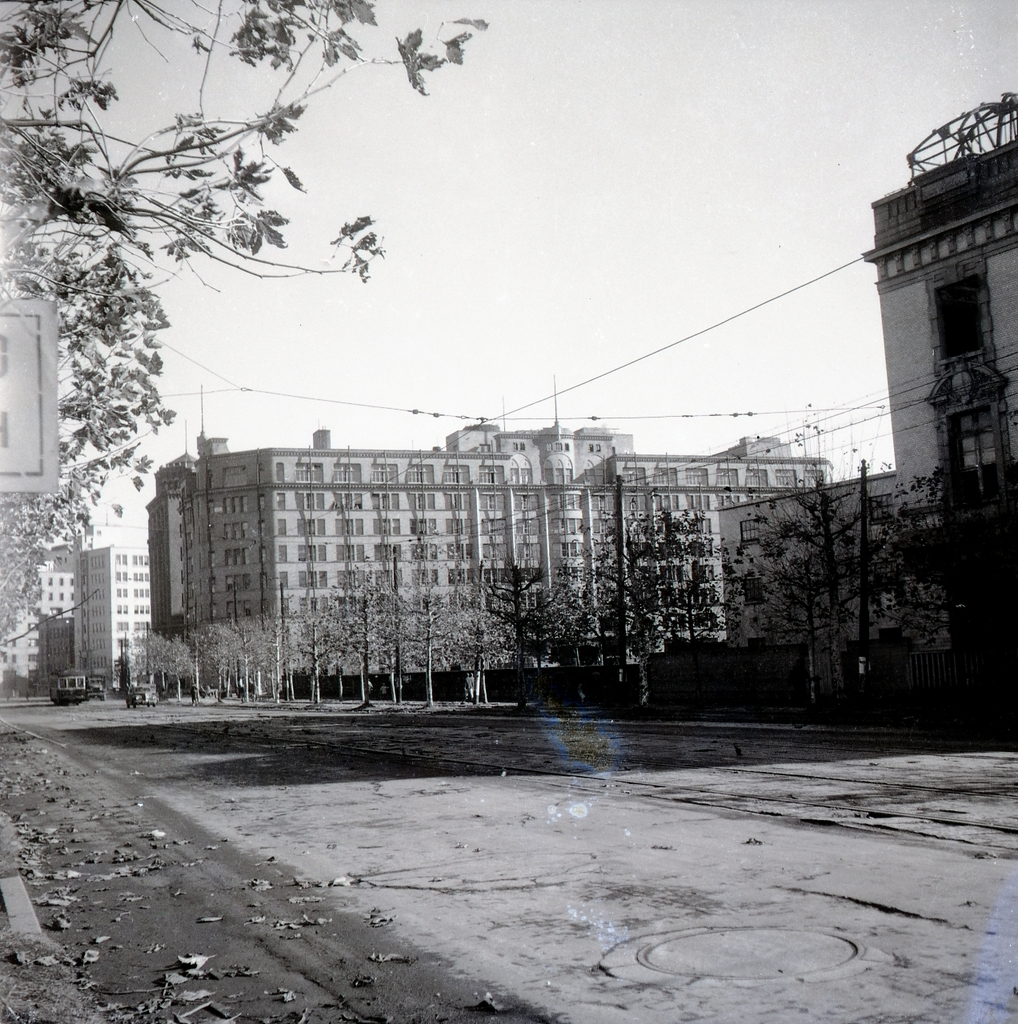Tree: (0, 0, 488, 640), (96, 419, 1017, 728)
